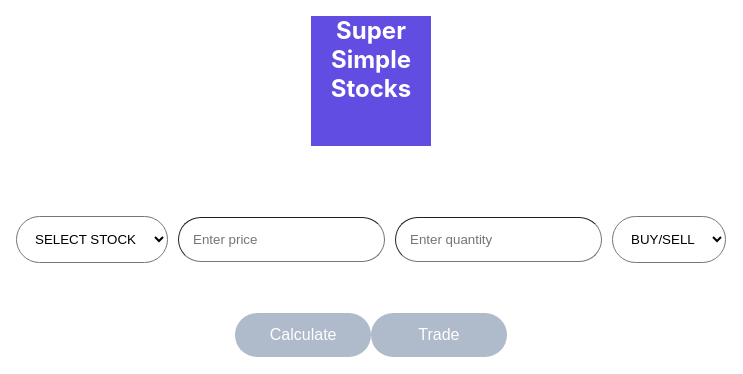
Test: App › activates calculate button on valid inputs
Expected: the button with test id "button-calculate" is disabled, 235,313 -> 371,357
Select "TEA" in the dropdown with test id "stock-list" at (92, 239), box 16,216 -> 168,263
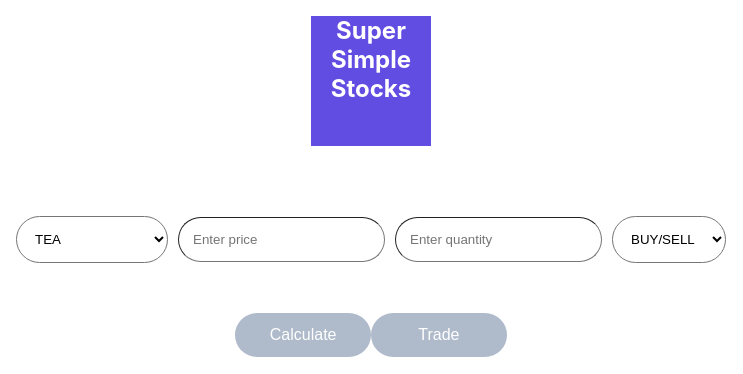
Type "100" into the number field with test id "input-price" at (282, 239), box 178,217 -> 385,262
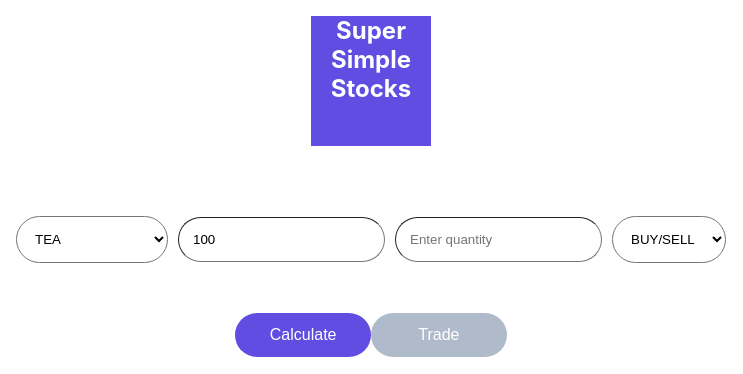
Expected: the button with test id "button-calculate" is enabled, 235,313 -> 371,357
